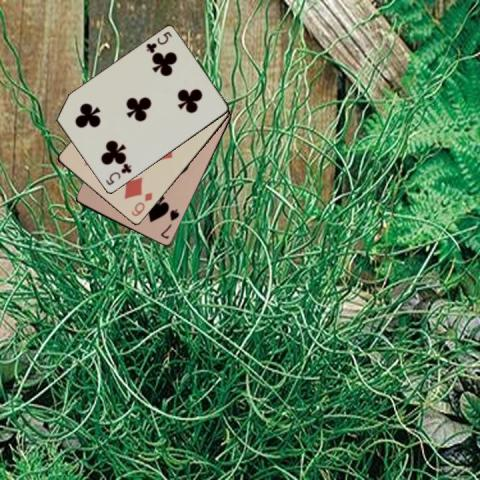5c: (102, 162, 132, 188), (143, 29, 173, 55)
6d: (128, 189, 154, 218)
7s: (157, 206, 181, 241)
